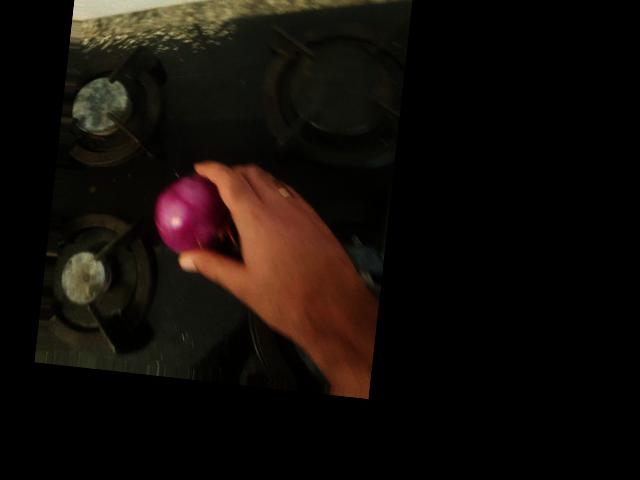onion: (150, 169, 242, 262)
